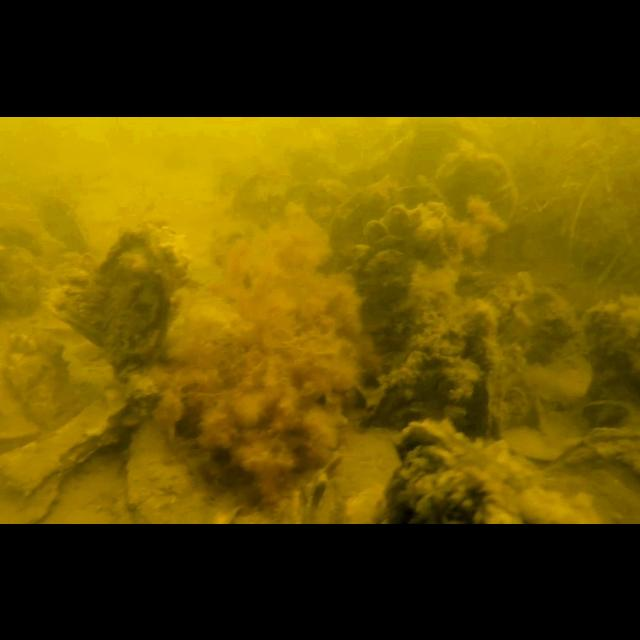Oyster-Closed: (102, 216, 196, 378), (0, 388, 132, 496), (419, 462, 601, 524), (121, 414, 213, 524), (434, 143, 520, 259), (326, 180, 449, 256), (1, 329, 79, 431), (43, 250, 103, 348), (360, 202, 450, 264), (24, 188, 92, 252)
Oyster-Open: (384, 418, 538, 524), (353, 232, 417, 351), (1, 217, 52, 317), (578, 395, 638, 441)
